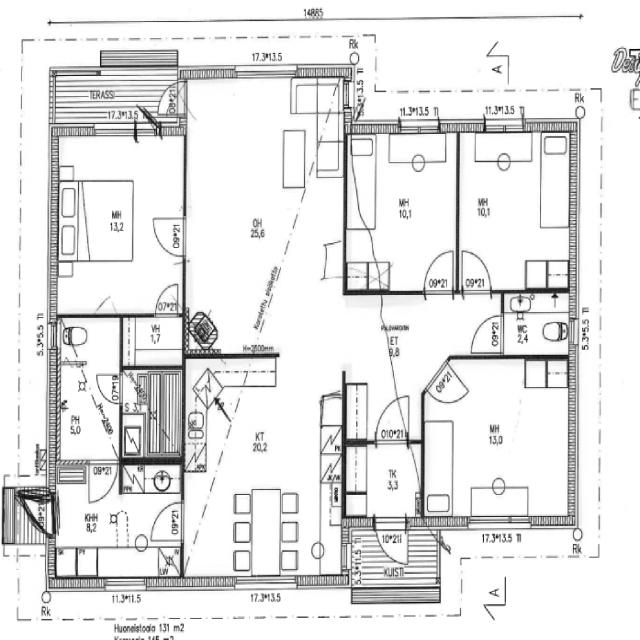door: (57, 324, 124, 458), (145, 204, 194, 264), (373, 514, 409, 568), (375, 395, 412, 447), (86, 455, 120, 510), (149, 500, 187, 547), (432, 362, 470, 409), (458, 246, 493, 297), (421, 246, 456, 295), (470, 312, 504, 354), (92, 369, 126, 409), (25, 494, 58, 535), (152, 280, 182, 320), (131, 110, 161, 146), (485, 50, 510, 91), (431, 525, 454, 563)
window: (231, 62, 302, 88), (464, 511, 529, 533), (234, 573, 302, 594), (88, 120, 137, 143), (394, 116, 446, 137), (479, 114, 529, 135), (105, 574, 148, 594), (45, 317, 63, 356)
zone: (181, 75, 348, 354), (184, 364, 348, 541), (424, 354, 578, 524), (52, 132, 186, 318), (457, 128, 574, 291), (345, 128, 458, 293), (52, 466, 180, 583), (55, 318, 124, 458), (343, 442, 423, 517), (120, 366, 185, 458), (126, 461, 188, 556), (502, 291, 573, 357), (120, 315, 186, 368), (486, 51, 511, 88)
